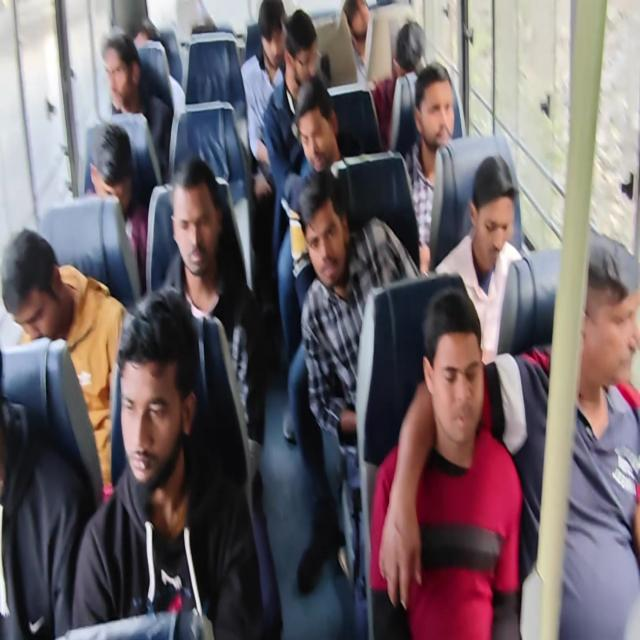person: (109, 300, 202, 481), (572, 238, 640, 401), (426, 304, 484, 436), (0, 230, 68, 333), (174, 171, 225, 271), (88, 130, 142, 218), (472, 158, 518, 261), (413, 64, 461, 155), (304, 192, 348, 286), (299, 94, 338, 174), (386, 21, 427, 92), (99, 40, 138, 108), (287, 20, 317, 86), (256, 7, 284, 68), (345, 0, 378, 45), (128, 16, 162, 56)
